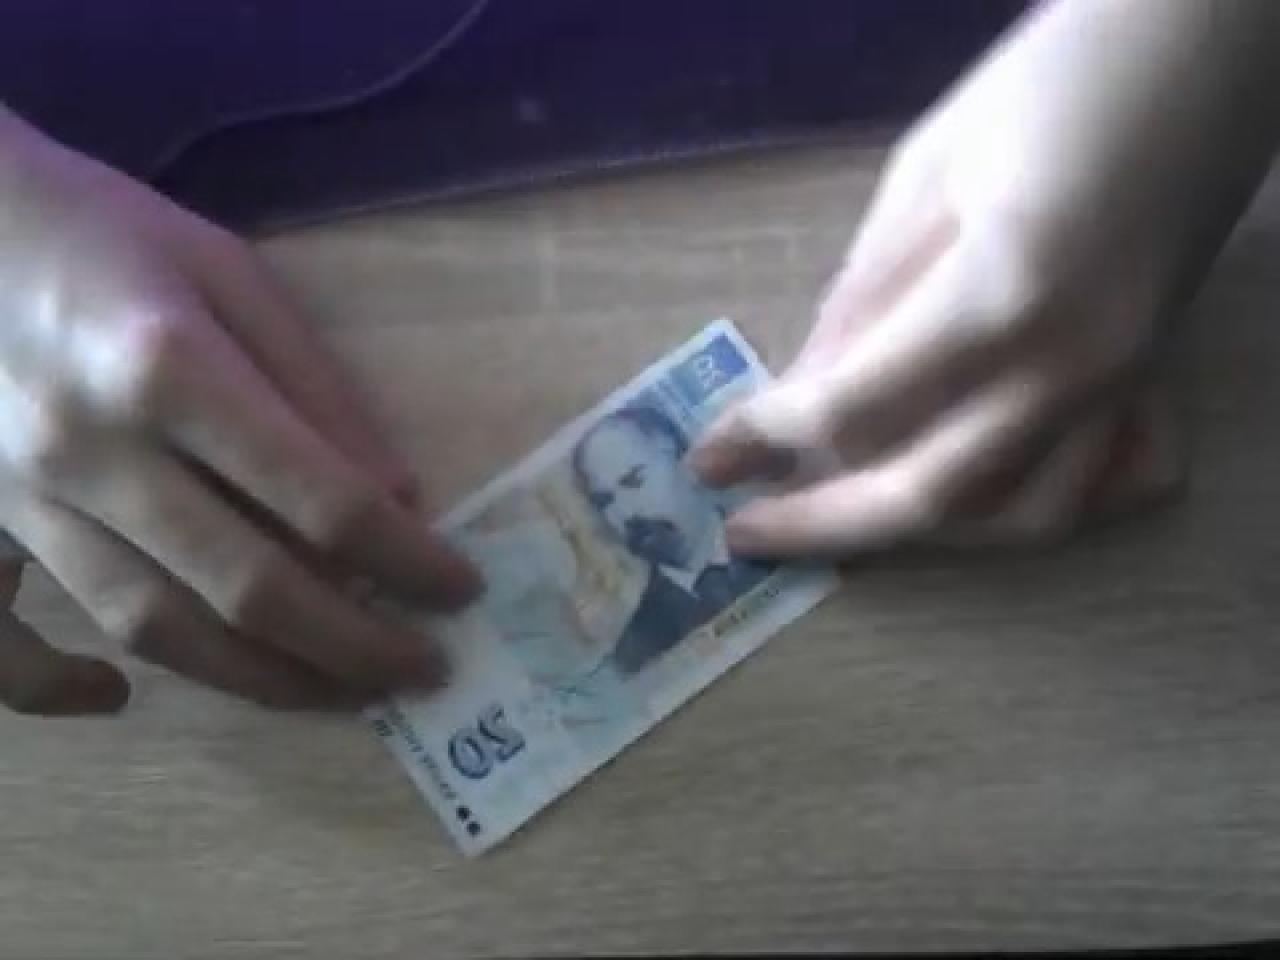20leva: (358, 313, 846, 859)
